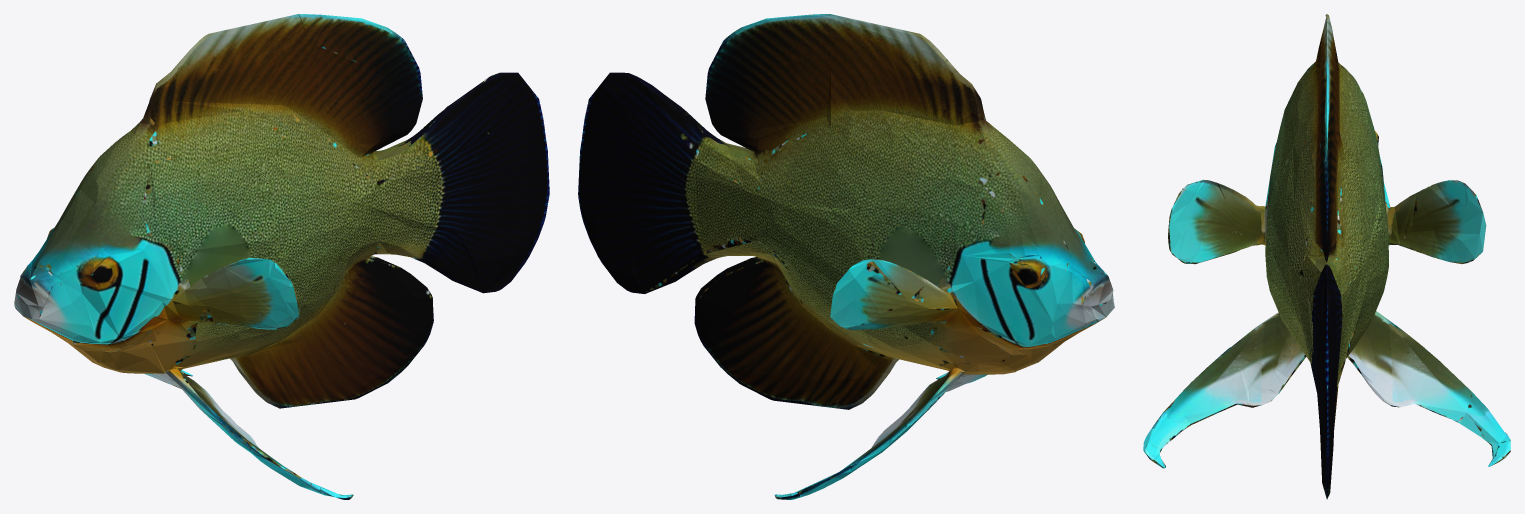
Rendered from fish_0025_smpl23_resized.glb.
The picture shows the model from 3 angles, left to right: view 1: azimuth 30°, elevation 25°; view 2: azimuth 150°, elevation 25°; view 3: azimuth 270°, elevation 25°; orthographic projection.
Parts seen in each view (by area): view 1: world; view 2: world; view 3: world.
Part boxes in pixels (<box>): world: <box>14,14,549,499</box>; world: <box>578,14,1114,499</box>; world: <box>1143,14,1510,499</box>.
Bounding box in the file's own units: 1.98 × 1.51 × 1.19.
1 material, 1 textured.
